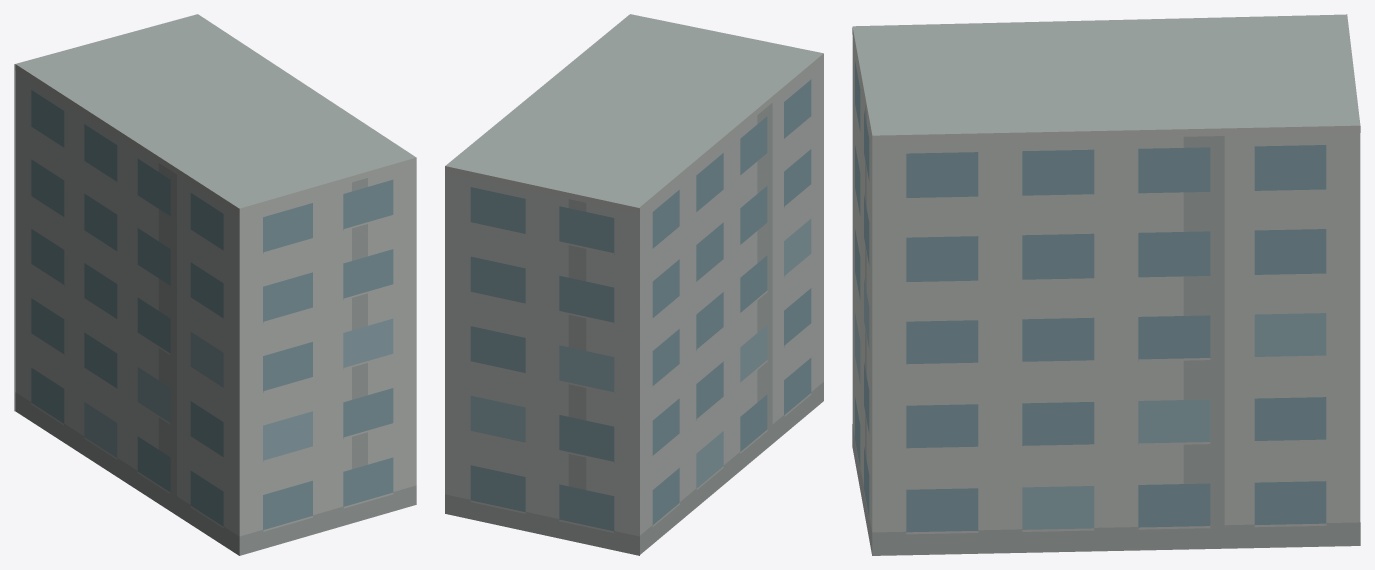
The model's file is survey-upis-32610636.glb.
The picture shows the model from 3 angles, left to right: view 1: azimuth 30°, elevation 25°; view 2: azimuth 150°, elevation 25°; view 3: azimuth 270°, elevation 25°; orthographic projection. The views are drawn at different scales.
Parts seen in each view (by area): view 1: survey-upis-32610636.tmp; view 2: survey-upis-32610636.tmp; view 3: survey-upis-32610636.tmp.
Part boxes in pixels (x1,y1,x2,y2): survey-upis-32610636.tmp: [14, 14, 416, 555]; survey-upis-32610636.tmp: [445, 14, 823, 555]; survey-upis-32610636.tmp: [852, 14, 1360, 555].
Bounding box in the file's own units: 8.42 × 13.55 × 14.86.
